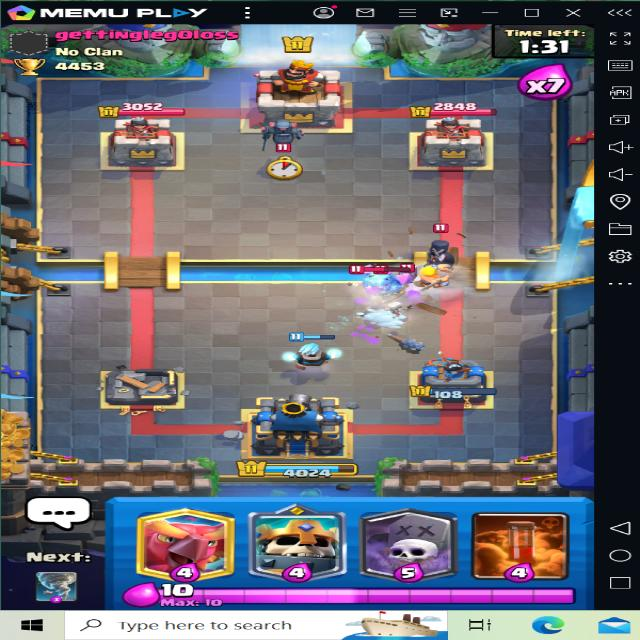baby-dragon: (352, 260, 412, 298)
mini-pekka: (258, 115, 310, 147)
night-witch: (415, 224, 461, 275)
